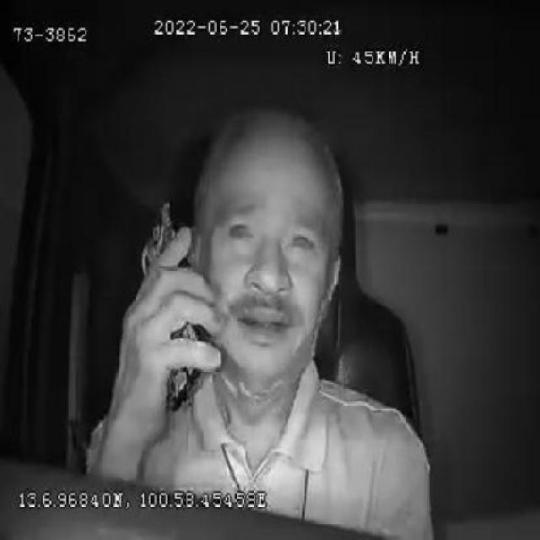phone: (140, 199, 203, 414)
